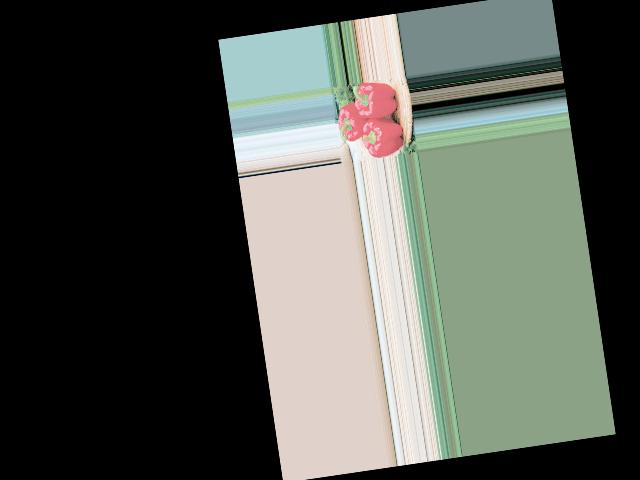bell_pepper: (351, 78, 404, 126)
